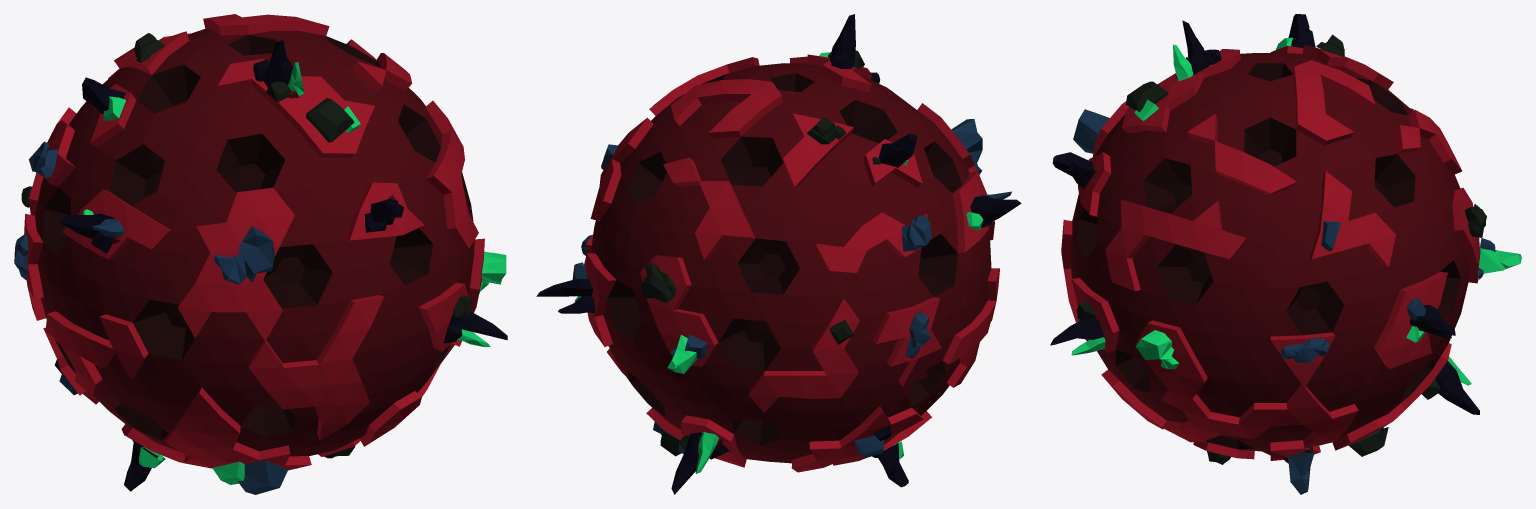
The model's file is mercurio.obj.
3 views of the same model, side by side, from view 1: azimuth 30°, elevation 25°; view 2: azimuth 150°, elevation 25°; view 3: azimuth 270°, elevation 25° (orthographic). The views are drawn at different scales.
Parts seen in each view (by area): view 1: Cylinder_Material_0.002; view 2: Cylinder_Material_0.002; view 3: Cylinder_Material_0.002.
Boxes of the visible parts, x1=… form: Cylinder_Material_0.002: x1=14, y1=14, x2=507, y2=494; Cylinder_Material_0.002: x1=536, y1=14, x2=1021, y2=494; Cylinder_Material_0.002: x1=1050, y1=14, x2=1521, y2=494.
Size of the model in its own units: 2.25 by 2.3 by 2.35.
